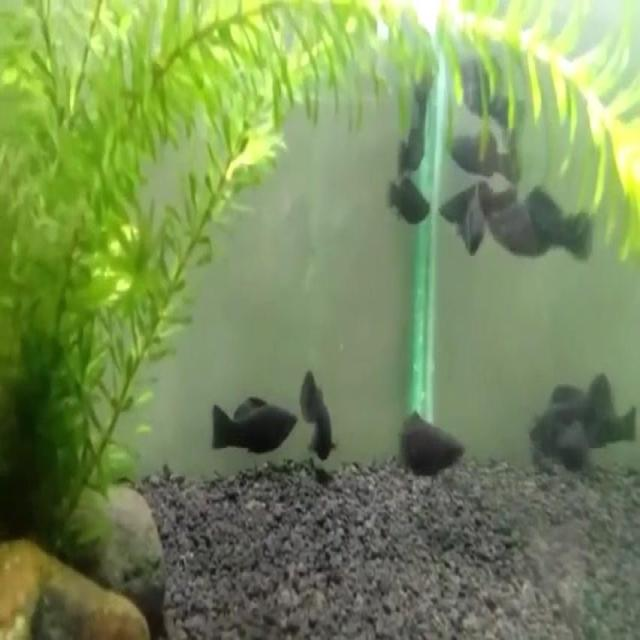PlatyFish: (204, 386, 302, 470)
